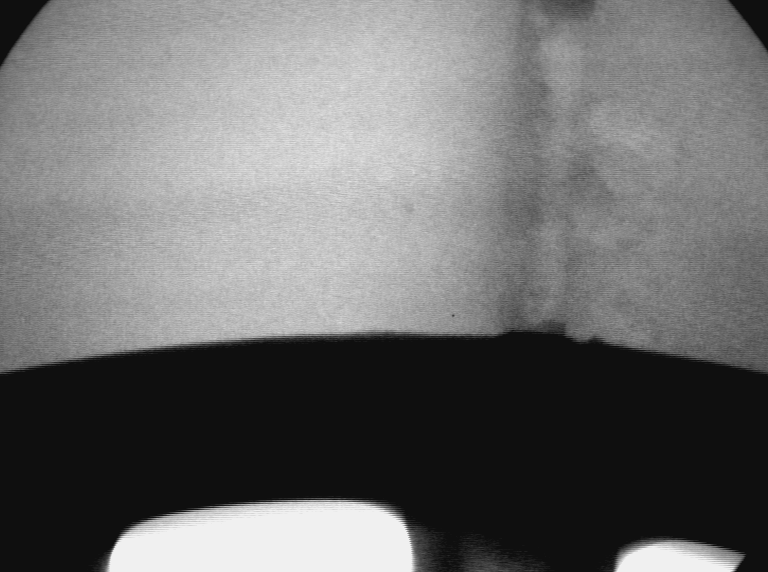defect: (580, 98, 682, 196)
